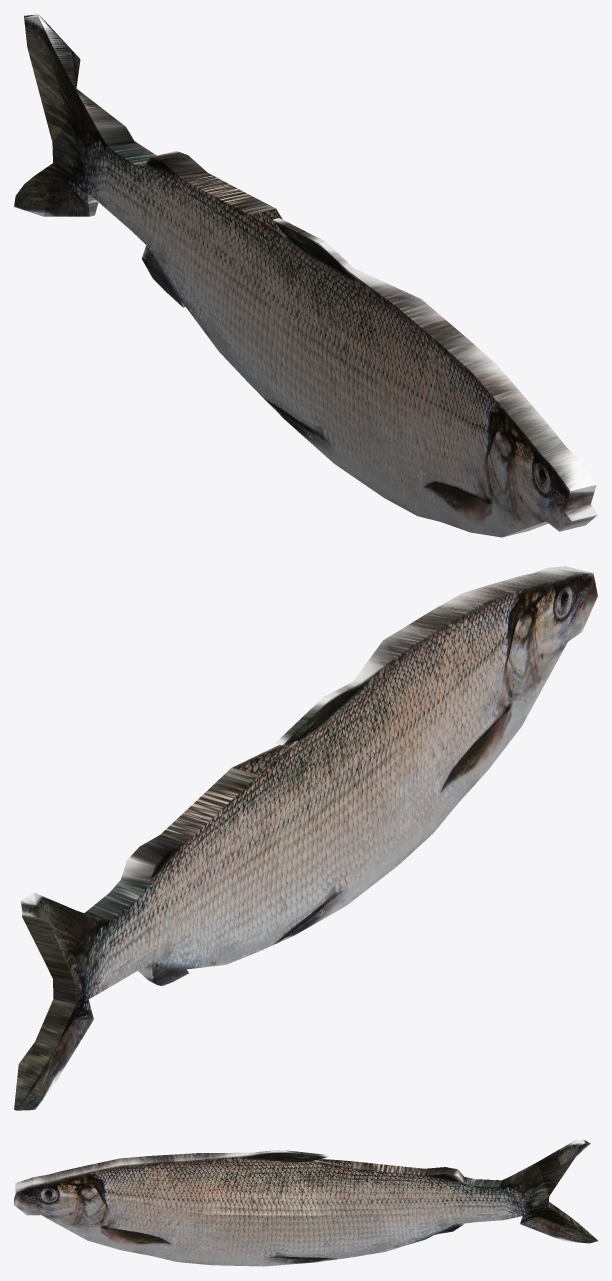
Rendered from pollan.glb.
3 views of the same model, one above another, from view 1: azimuth 30°, elevation 25°; view 2: azimuth 150°, elevation 25°; view 3: azimuth 270°, elevation 25° (orthographic). The views are drawn at different scales.
Visible parts, largest first — view 1: Plane; view 2: Plane; view 3: Plane.
Boxes of the visible parts, x1=… form: Plane: x1=14, y1=14, x2=597, y2=537; Plane: x1=14, y1=566, x2=597, y2=1110; Plane: x1=14, y1=1139, x2=597, y2=1266.
Size of the model in its own units: 0.2041 by 1.07 by 4.69.
Materials: 1 (1 with a texture image).
